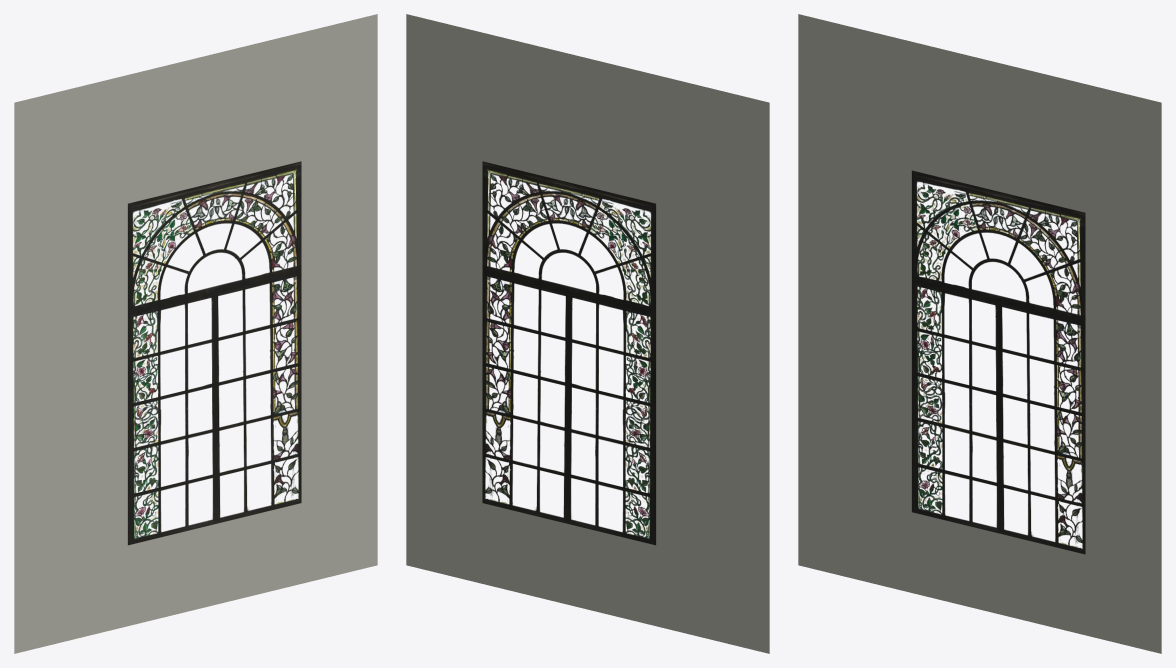
Rendered from B_axis_collider_3.glb.
3 views of the same model, side by side, from view 1: azimuth 30°, elevation 25°; view 2: azimuth 150°, elevation 25°; view 3: azimuth 330°, elevation 25° (orthographic).
Parts seen in each view (by area): view 1: B_Axis_wall_collide.3; view 2: B_Axis_wall_collide.3; view 3: B_Axis_wall_collide.3.
Boxes of the visible parts, left/top/right/bottom form: B_Axis_wall_collide.3: left=14, top=14, right=377, bottom=653; B_Axis_wall_collide.3: left=406, top=14, right=769, bottom=653; B_Axis_wall_collide.3: left=798, top=14, right=1161, bottom=653.
Size of the model in its own units: 4.01 by 5.81 by 0.
Materials: 1 (1 with a texture image).
